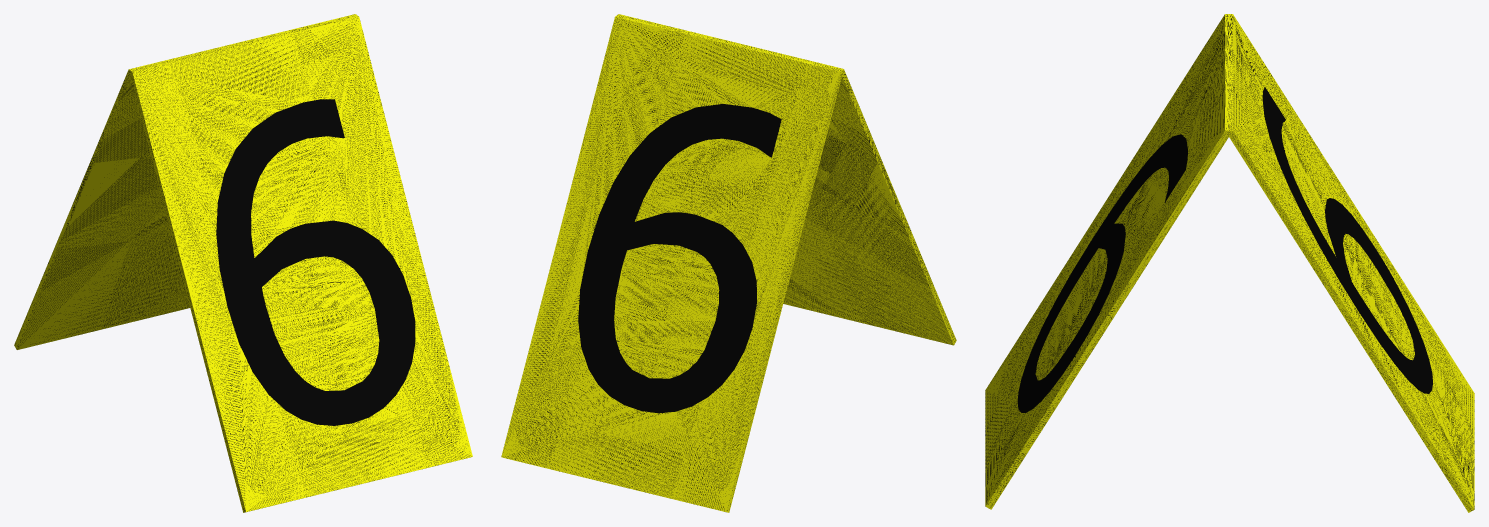
The model's file is F_Six.dae.
3 renders of one model, left to right at view 1: azimuth 30°, elevation 25°; view 2: azimuth 150°, elevation 25°; view 3: azimuth 270°, elevation 25°, orthographic. The views are drawn at different scales.
Parts seen in each view (by area): view 1: skpBF44 (×3); view 2: skpBF44 (×3); view 3: skpBF44 (×5).
Boxes of the visible parts, box(x1,y1,x2,y2) form: skpBF44 (×3): box(14, 14, 472, 512); skpBF44 (×3): box(501, 14, 956, 512); skpBF44 (×5): box(985, 14, 1474, 512).
Size of the model in its own units: 4 by 7.09 by 6.11.
